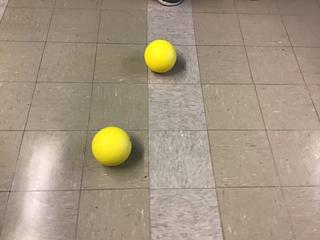power_cell: (89, 126, 134, 167), (142, 37, 179, 76)
